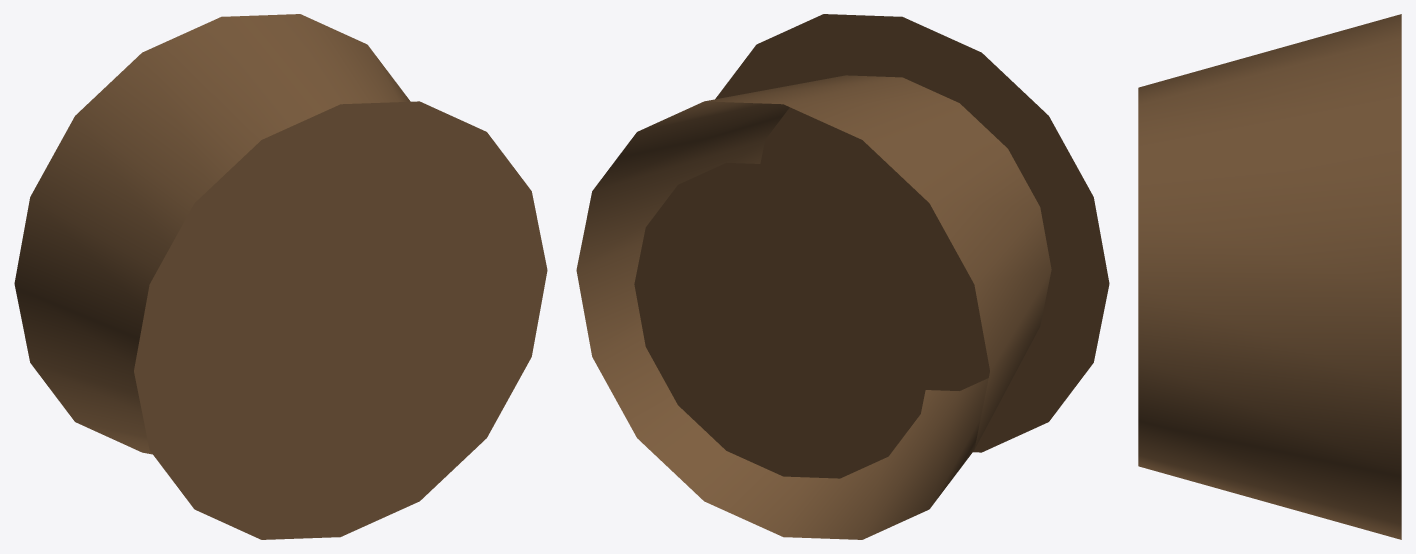
File: tapered_cyl.obj
The picture shows the model from 3 angles, left to right: view 1: azimuth 30°, elevation 25°; view 2: azimuth 150°, elevation 25°; view 3: azimuth 270°, elevation 25°; orthographic projection. The views are drawn at different scales.
Visible parts, largest first — view 1: tapered_cyl; view 2: tapered_cyl; view 3: tapered_cyl.
Boxes of the visible parts, x1,y1,x2,y2 form: tapered_cyl: (14, 14, 547, 539); tapered_cyl: (576, 14, 1109, 539); tapered_cyl: (1138, 14, 1401, 539).
Size of the model in its own units: 2 by 2 by 1.
